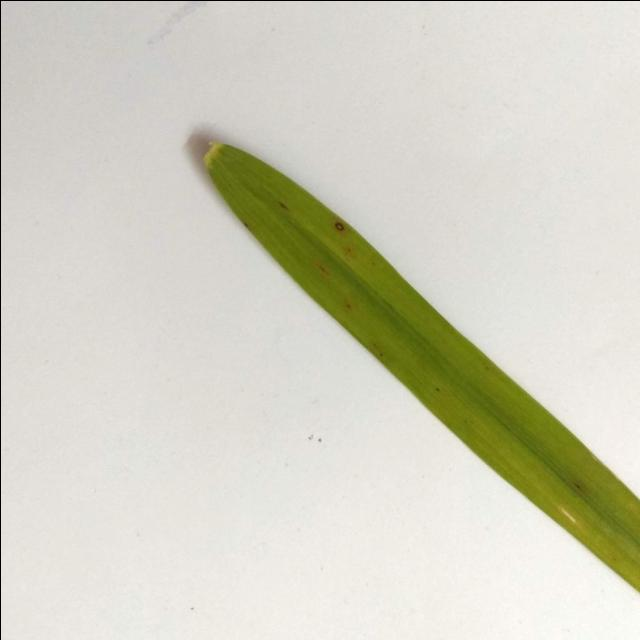Brown spot: (181, 132, 640, 640)
